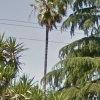Palm tree: (30, 2, 76, 78)
